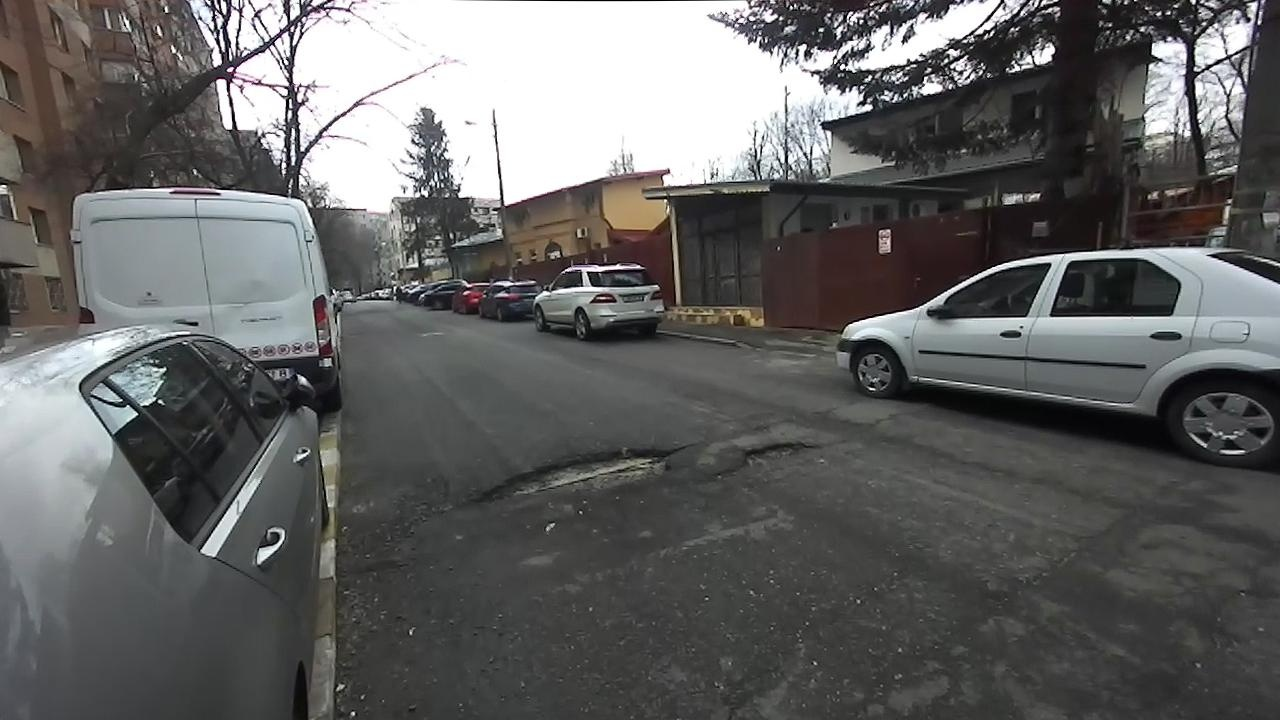pothole: (457, 437, 697, 508), (714, 437, 826, 479)
